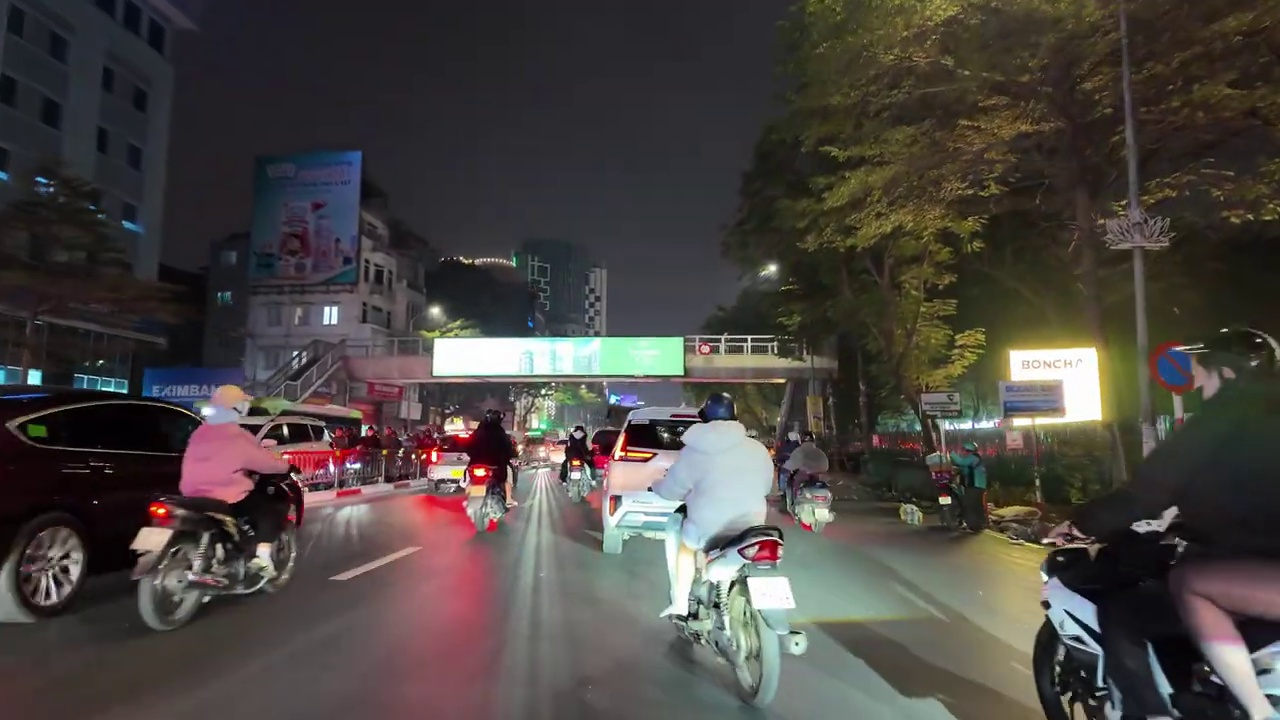acesa: (755, 259, 783, 282)
